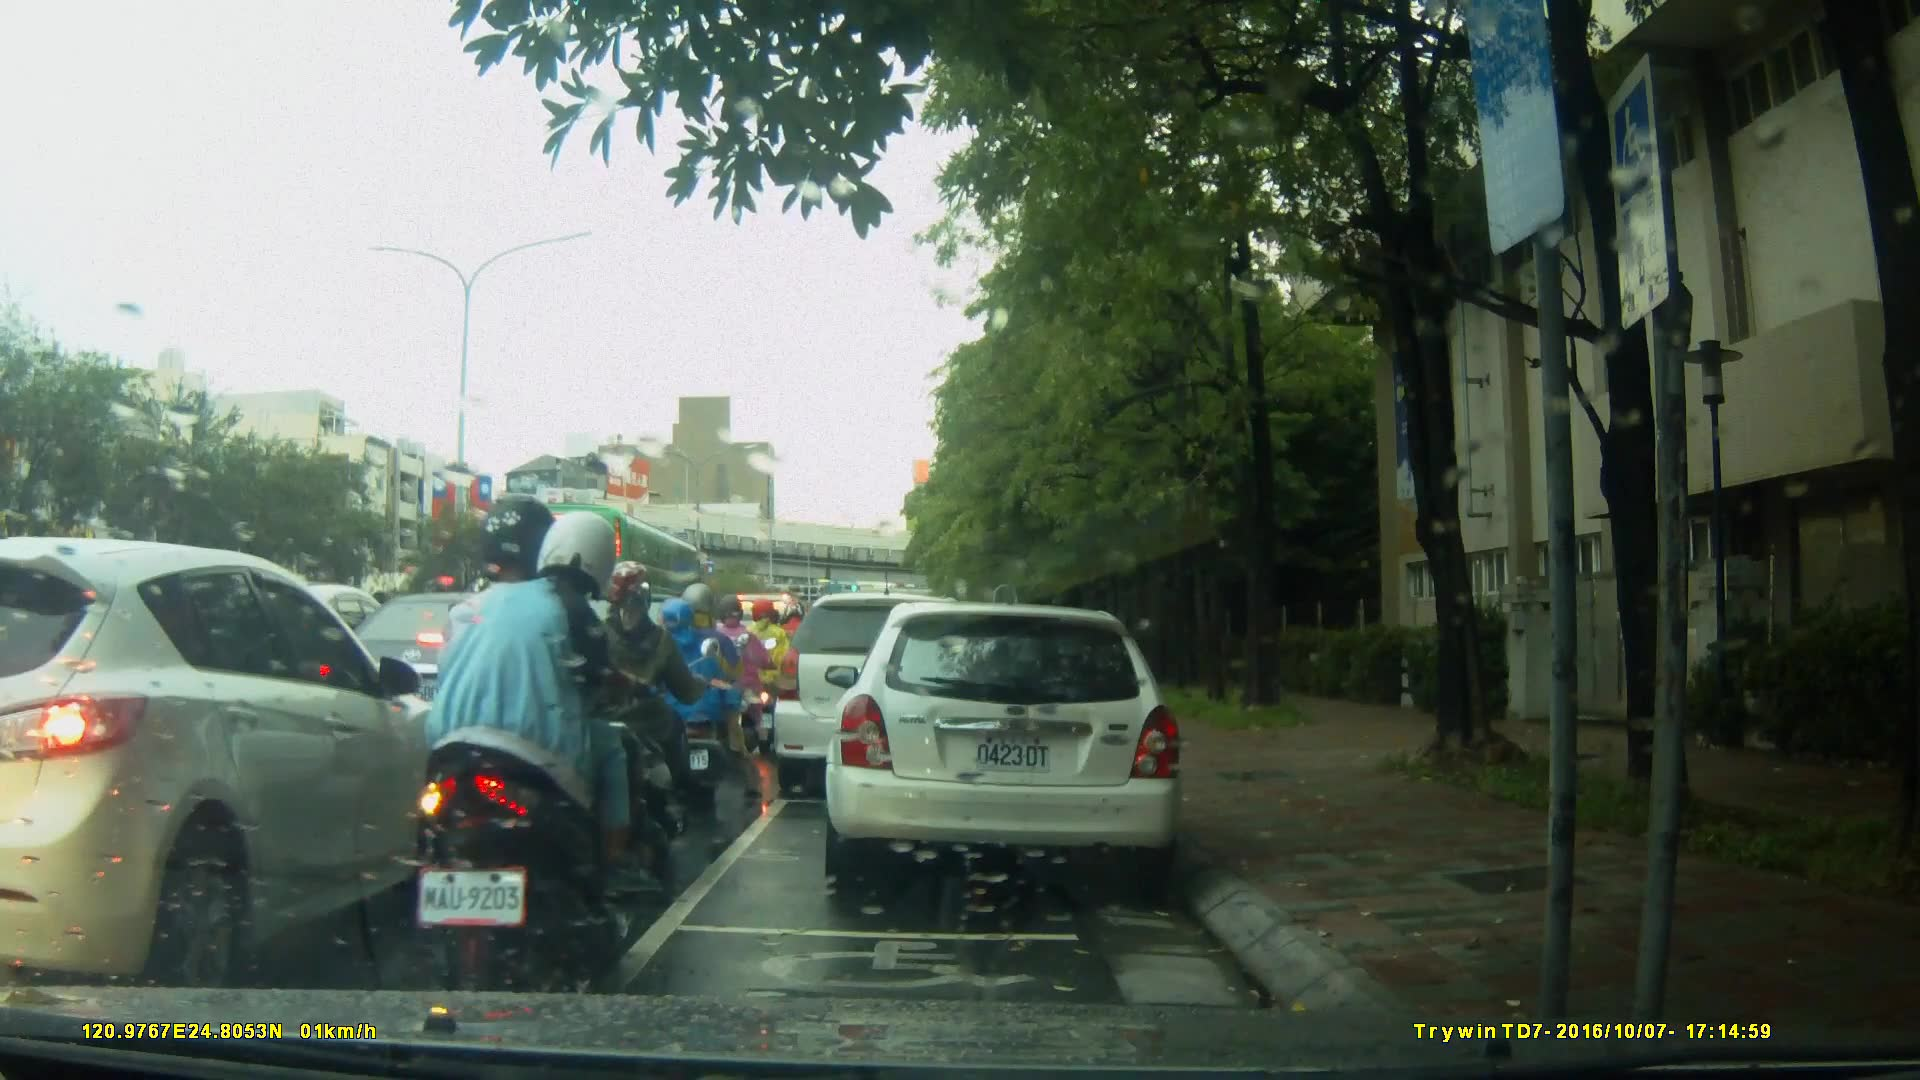rider: (423, 498, 654, 1000), (587, 563, 722, 868), (653, 586, 737, 804), (698, 598, 771, 764), (738, 598, 798, 749)
vehicle: (4, 535, 465, 988), (831, 592, 1196, 897), (312, 589, 629, 776), (771, 590, 999, 803), (500, 503, 709, 636)
